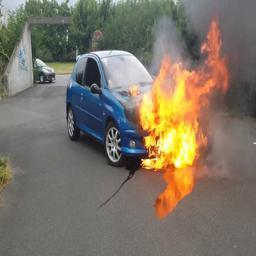fire: (131, 16, 230, 171)
